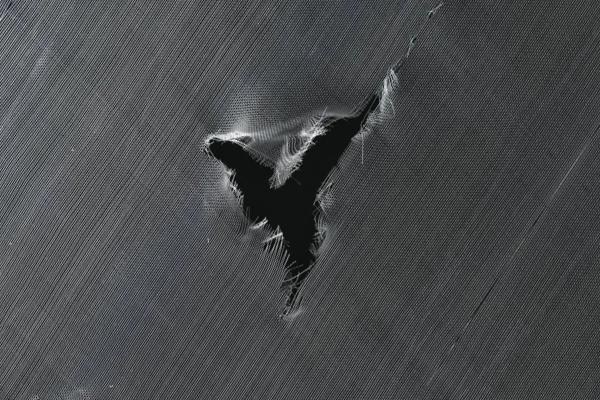hole: (201, 98, 394, 314)
